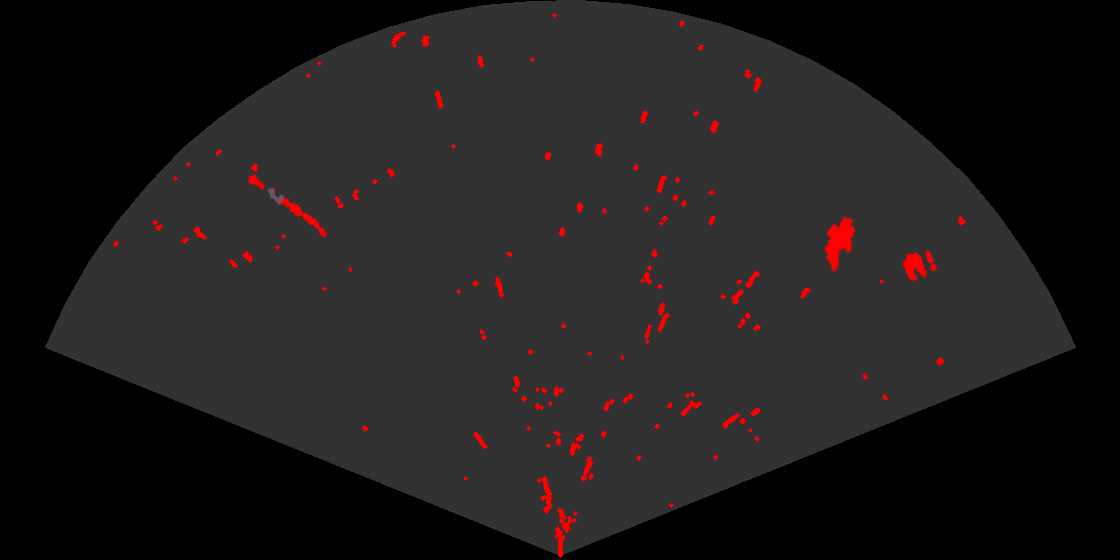AUV: (823, 215, 857, 274)
ball: (901, 249, 939, 283)
chain: (246, 173, 328, 239)
